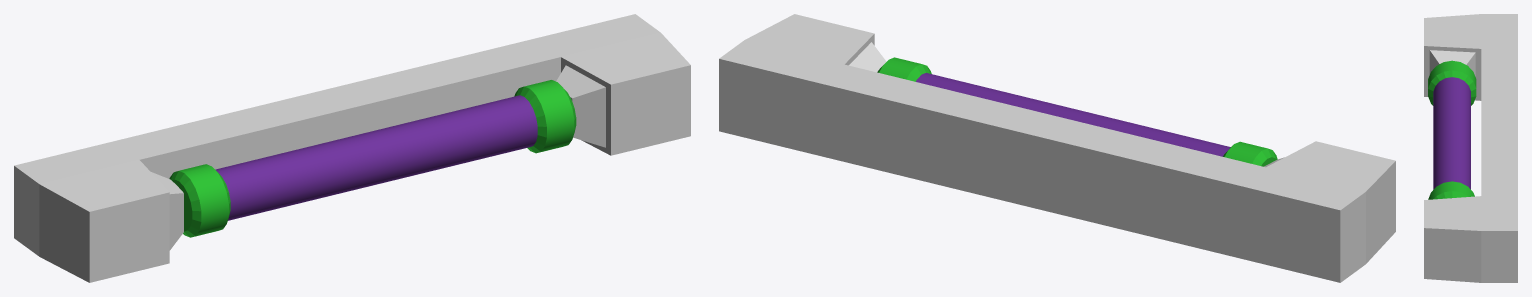
File: light_04.FBX
The picture shows the model from 3 angles, left to right: view 1: azimuth 30°, elevation 25°; view 2: azimuth 150°, elevation 25°; view 3: azimuth 270°, elevation 25°; orthographic projection. The views are drawn at different scales.
Visible parts, largest first — view 1: Box009, Cylinder017; view 2: Box009, Cylinder017; view 3: Box009, Cylinder017.
Part boxes in pixels (x1,y1,x2,y2): Box009: [14, 14, 690, 282]; Cylinder017: [169, 80, 576, 237]; Box009: [719, 14, 1395, 282]; Cylinder017: [877, 57, 1277, 166]; Box009: [1424, 14, 1517, 282]; Cylinder017: [1428, 60, 1476, 199].
Bounding box in the file's own units: 1167 × 130 × 213.
